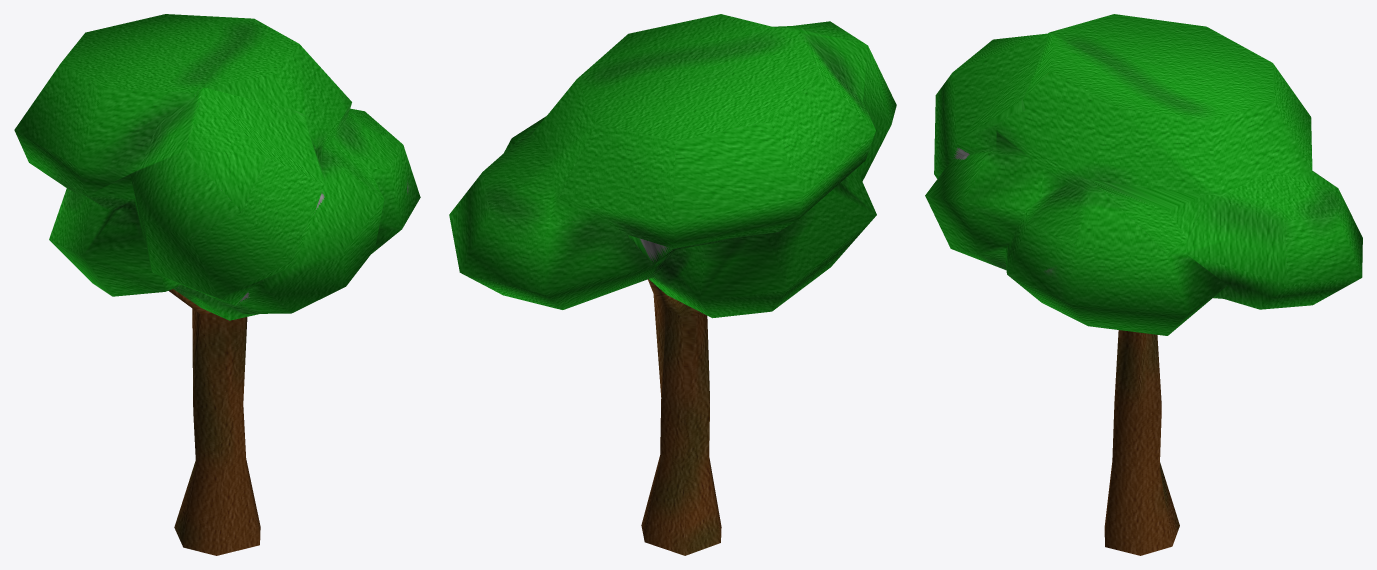
Rendered from Tree2.fbx.
The picture shows the model from 3 angles, left to right: view 1: azimuth 30°, elevation 25°; view 2: azimuth 150°, elevation 25°; view 3: azimuth 270°, elevation 25°; orthographic projection. The views are drawn at different scales.
Parts seen in each view (by area): view 1: polySurface10; view 2: polySurface10; view 3: polySurface10.
Part boxes in pixels (box(x1,y1,x2,y2)): polySurface10: box(14, 14, 420, 555); polySurface10: box(449, 14, 896, 555); polySurface10: box(925, 14, 1362, 555).
Size of the model in its own units: 8.93 by 12.26 by 10.27.
1 material, 1 textured.
